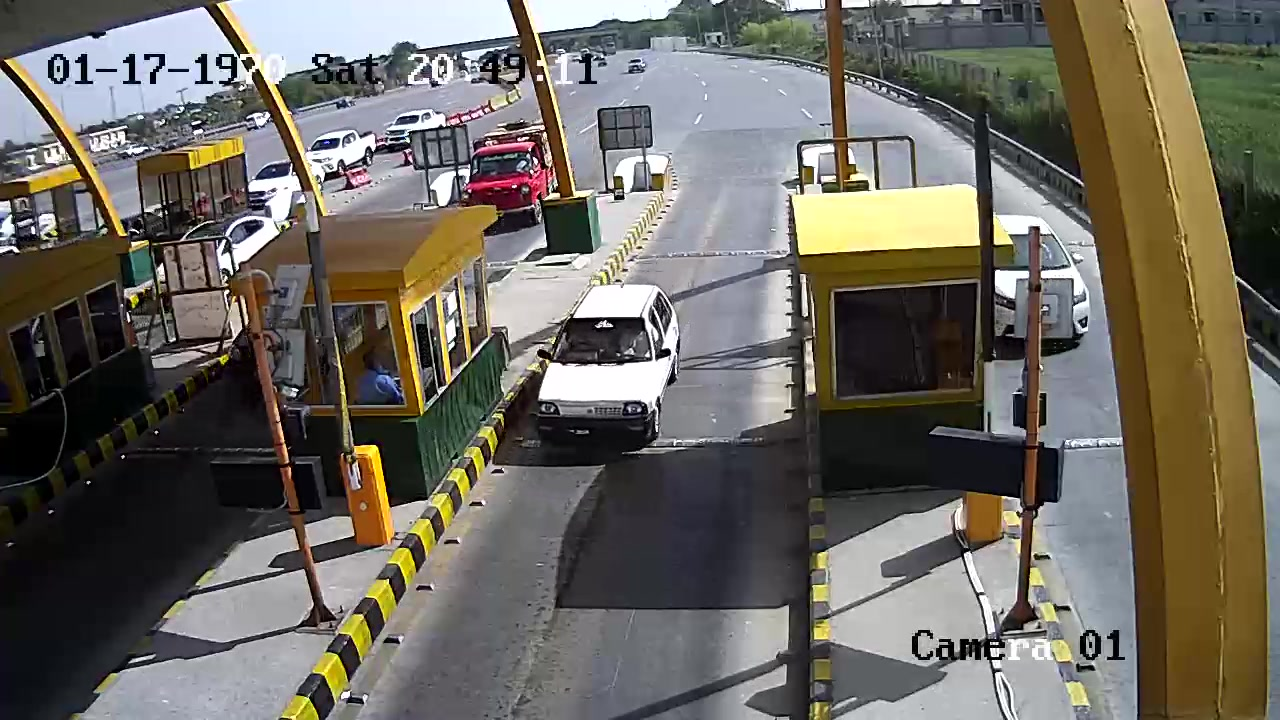F1: (528, 279, 681, 456)
